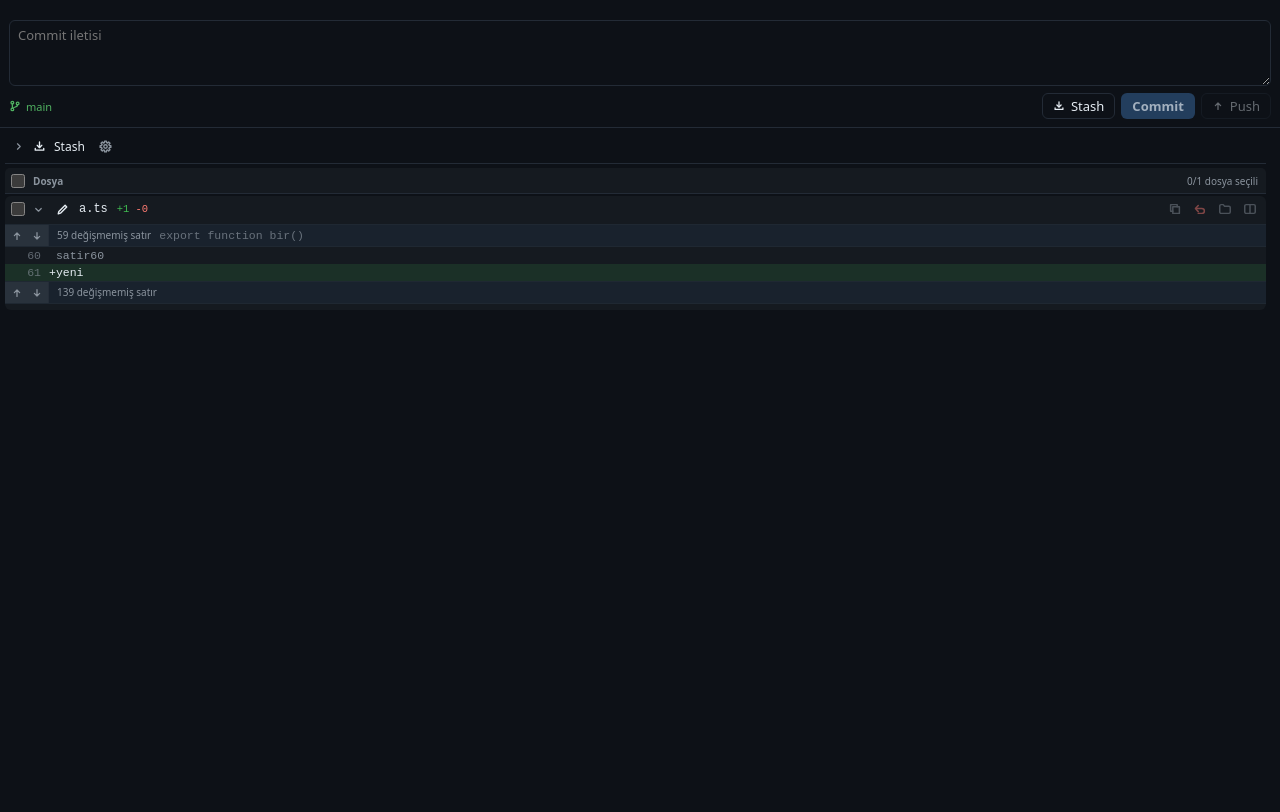
Test: bağlam açıcıları › aşağı ok satırları açıcının ALTINDA açıyor
Click the button named "Aşağıdan 50 satır aç" next to "59 değişmemiş satır" at (36, 236), box [28,228,46,242]
(page scrolled)
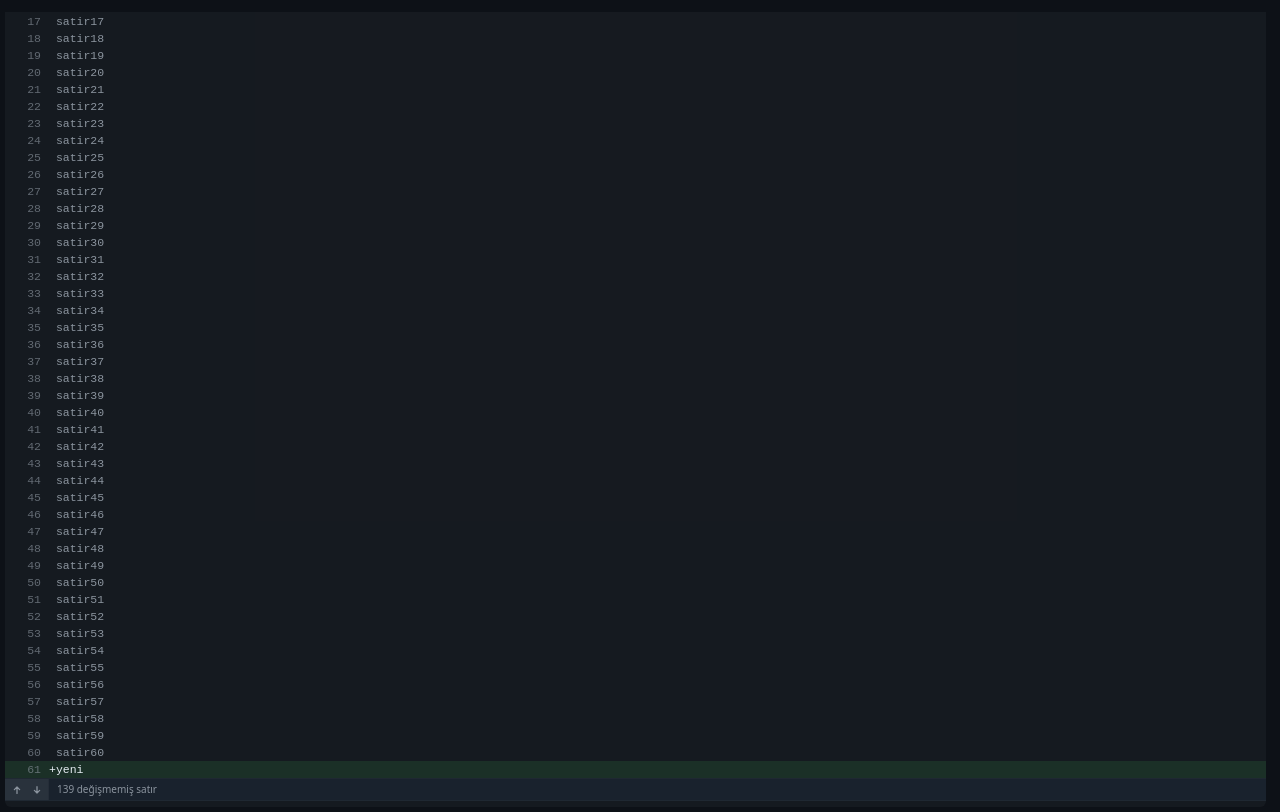
Expected: the element with class "same" shows "satir59", [49,729,104,742]
